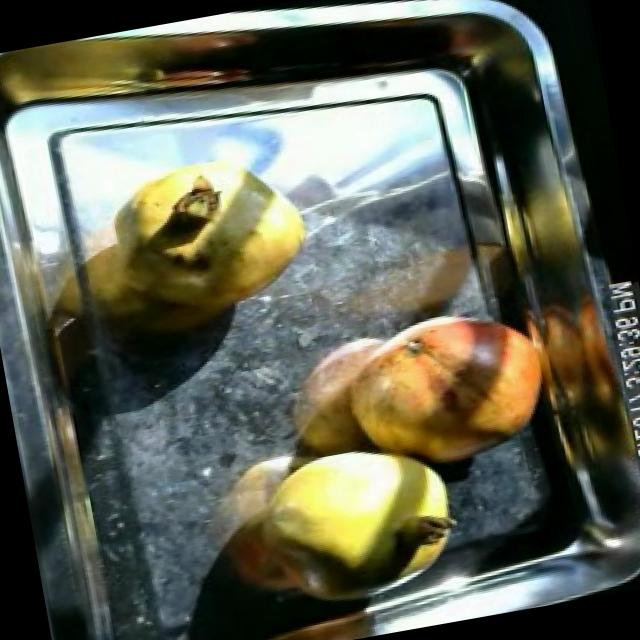fruit: (214, 416, 486, 628), (324, 290, 566, 491), (109, 134, 331, 330)
